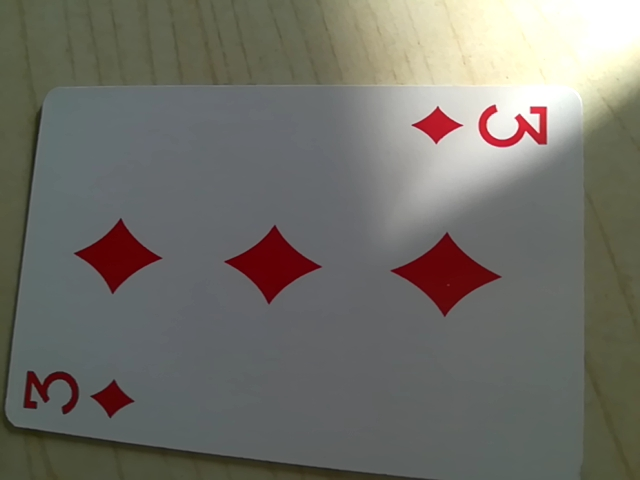fk 3: (11, 355, 137, 433), (404, 96, 555, 158)
